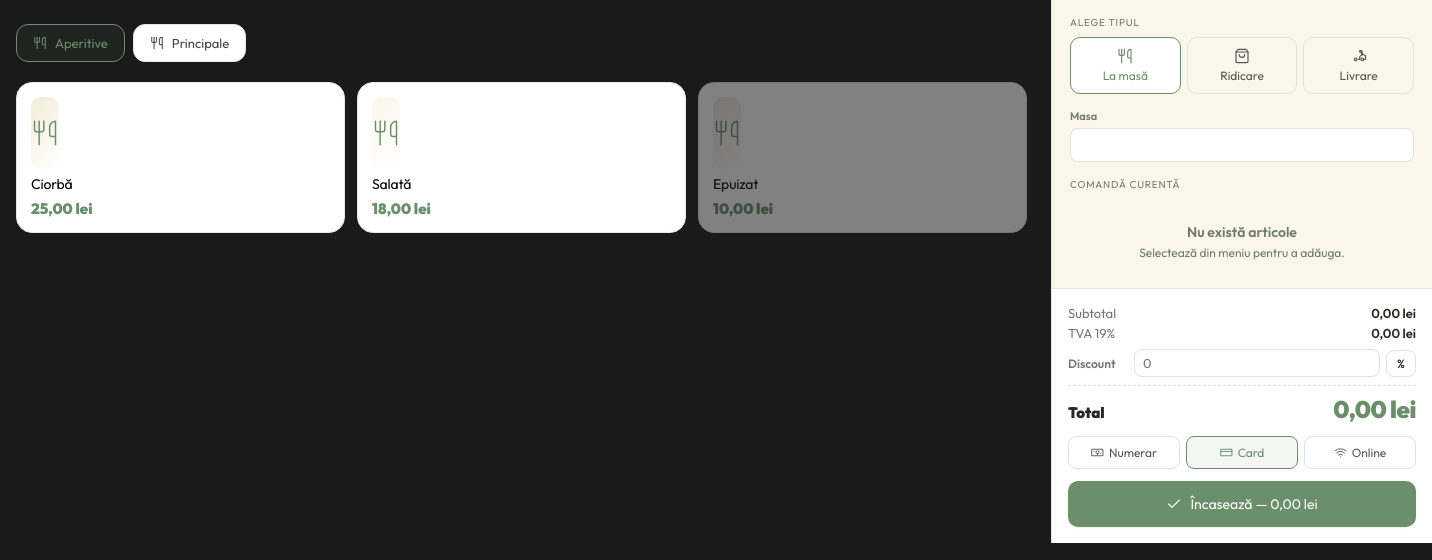
Test: PosScreen › POS-02: cart quantity adjustment › clicking add on a menu item increments cart badge quantity
Step 1. Click the button "Ciorbă 25,00 lei" → (52, 184), box [16,82,345,233]
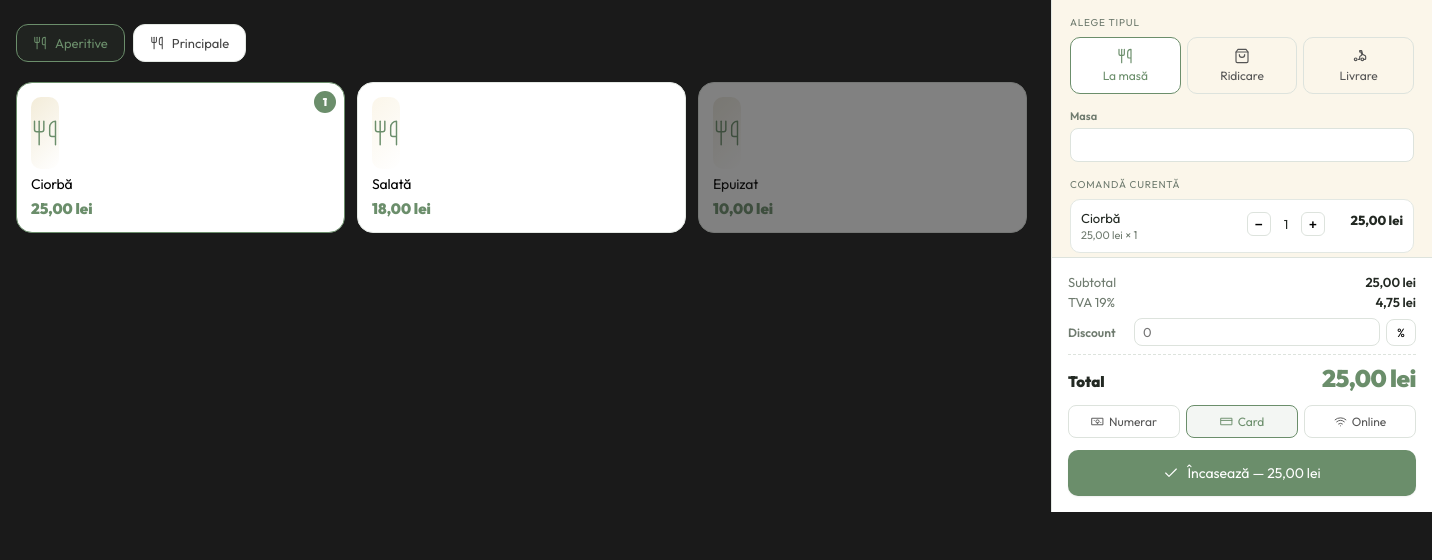
Result: the 1st text "1" is shown at [314,91,336,113]
